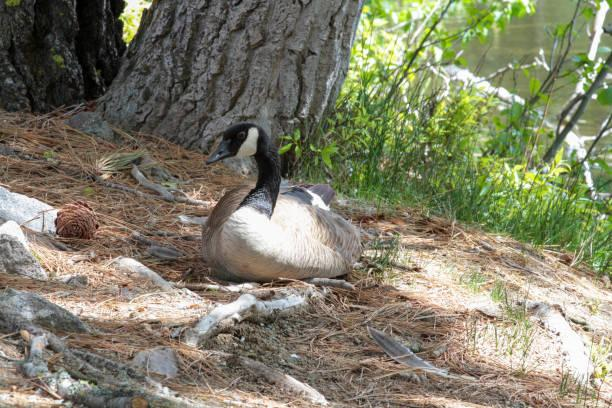Canadian-Goose: (195, 120, 367, 279)
